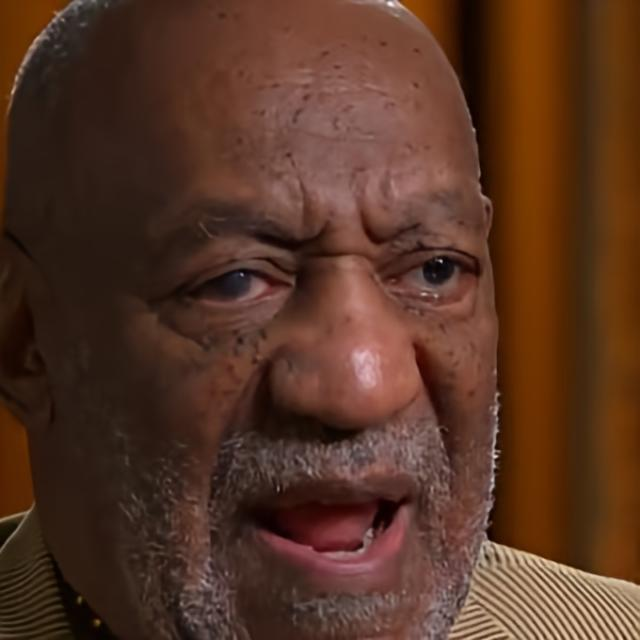anger: (74, 8, 502, 640)
